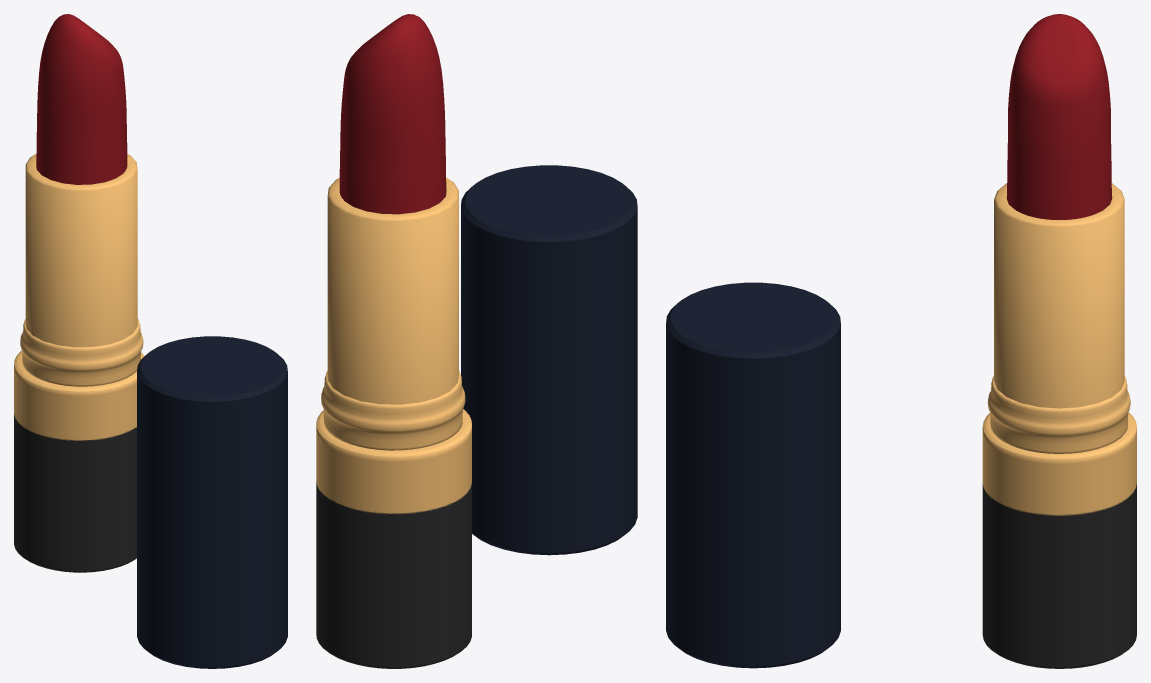
The model's file is red.glb.
3 views of the same model, side by side, from view 1: azimuth 30°, elevation 25°; view 2: azimuth 150°, elevation 25°; view 3: azimuth 270°, elevation 25° (orthographic). The views are drawn at different scales.
Parts seen in each view (by area): view 1: lipstick_cap, lipstick_holder, lipstick_red; view 2: lipstick_holder, lipstick_cap, lipstick_red; view 3: lipstick_holder, lipstick_cap, lipstick_red.
Boxes of the visible parts, <box> form: lipstick_cap: <box>137,336,287,668</box>; lipstick_holder: <box>14,153,144,572</box>; lipstick_red: <box>36,14,127,184</box>; lipstick_holder: <box>316,177,471,668</box>; lipstick_cap: <box>461,165,637,555</box>; lipstick_red: <box>339,14,446,214</box>; lipstick_holder: <box>982,183,1136,668</box>; lipstick_cap: <box>666,282,840,668</box>; lipstick_red: <box>1007,14,1111,219</box>.
Bounding box in the file's own units: 0.5614 × 2.19 × 1.51.
Materials: 3 (1 with a texture image).
